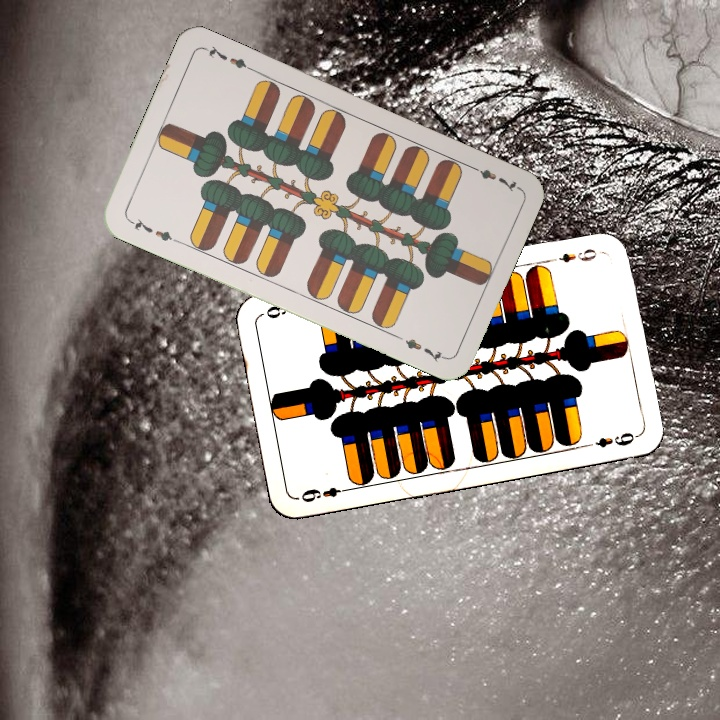E7: (465, 161, 521, 195), (125, 214, 181, 245)
E9: (297, 482, 353, 505), (555, 244, 600, 266)
